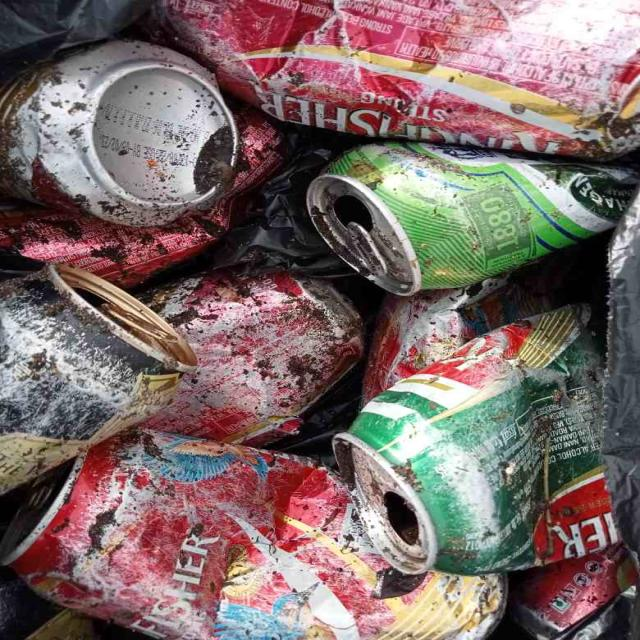kim_loai: (8, 430, 505, 640), (334, 305, 620, 576), (157, 0, 640, 158), (307, 142, 639, 295), (0, 264, 197, 493), (1, 40, 239, 226), (137, 271, 363, 443)
